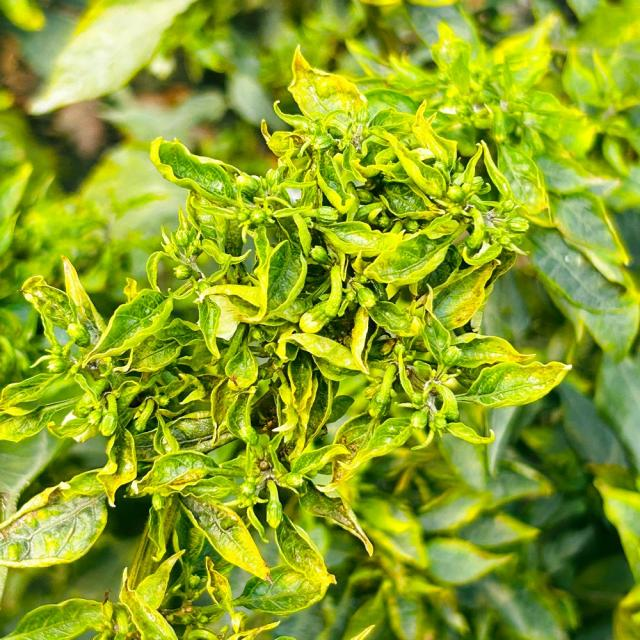Chilli_Leaf_Curl: (0, 40, 572, 638)
